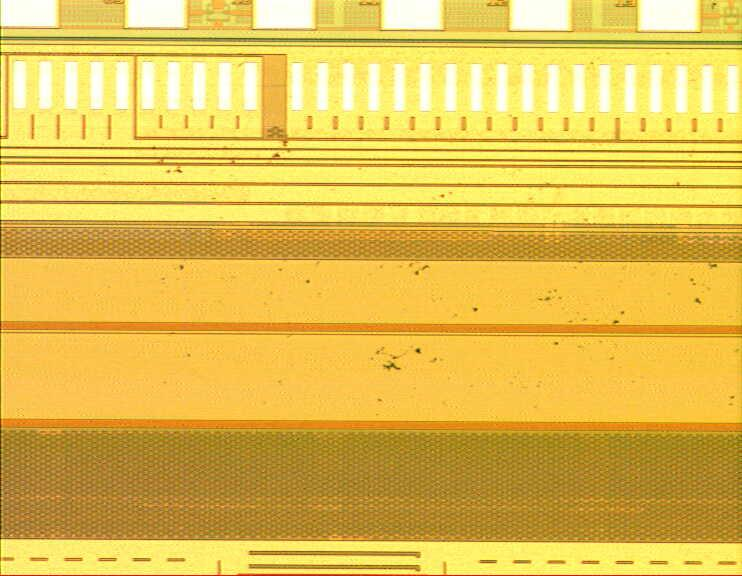PO CONTAMINATION: (145, 123, 742, 423)
